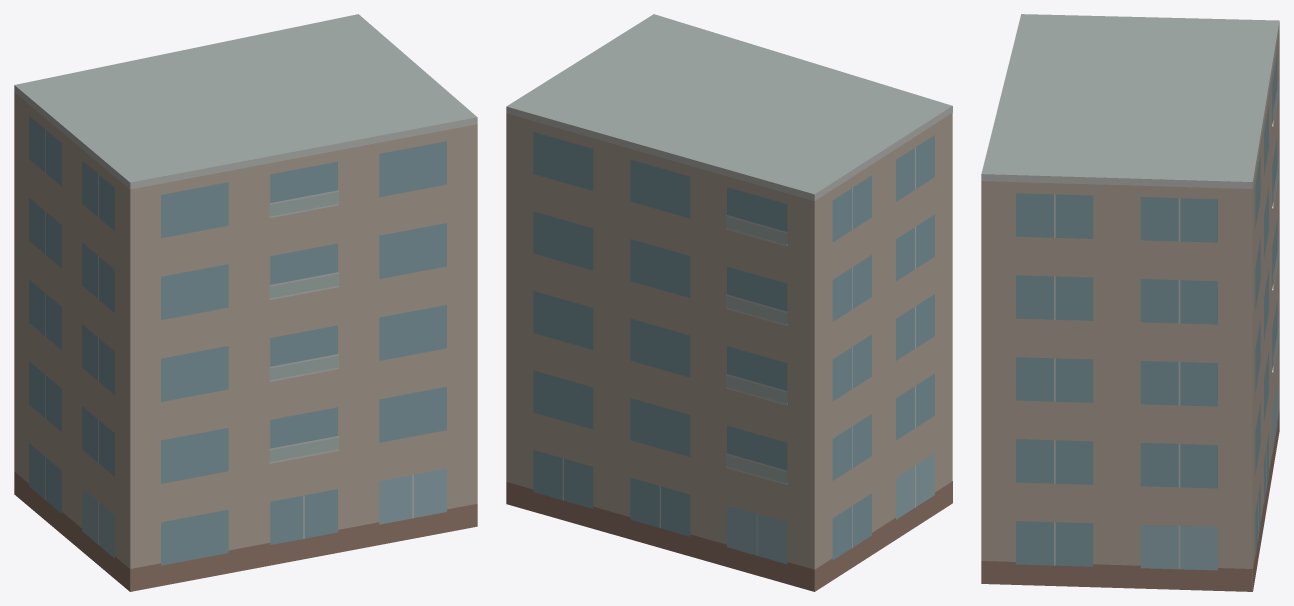
Rendered from survey-upis-32761282.glb.
The picture shows the model from 3 angles, left to right: view 1: azimuth 30°, elevation 25°; view 2: azimuth 150°, elevation 25°; view 3: azimuth 270°, elevation 25°; orthographic projection. The views are drawn at different scales.
Visible parts, largest first — view 1: survey-upis-32761282.tmp; view 2: survey-upis-32761282.tmp; view 3: survey-upis-32761282.tmp.
Part boxes in pixels (<box>): survey-upis-32761282.tmp: <box>14,14,477,591</box>; survey-upis-32761282.tmp: <box>506,14,952,591</box>; survey-upis-32761282.tmp: <box>981,14,1279,591</box>.
Size of the model in its own units: 12.59 by 14.3 by 9.44.
